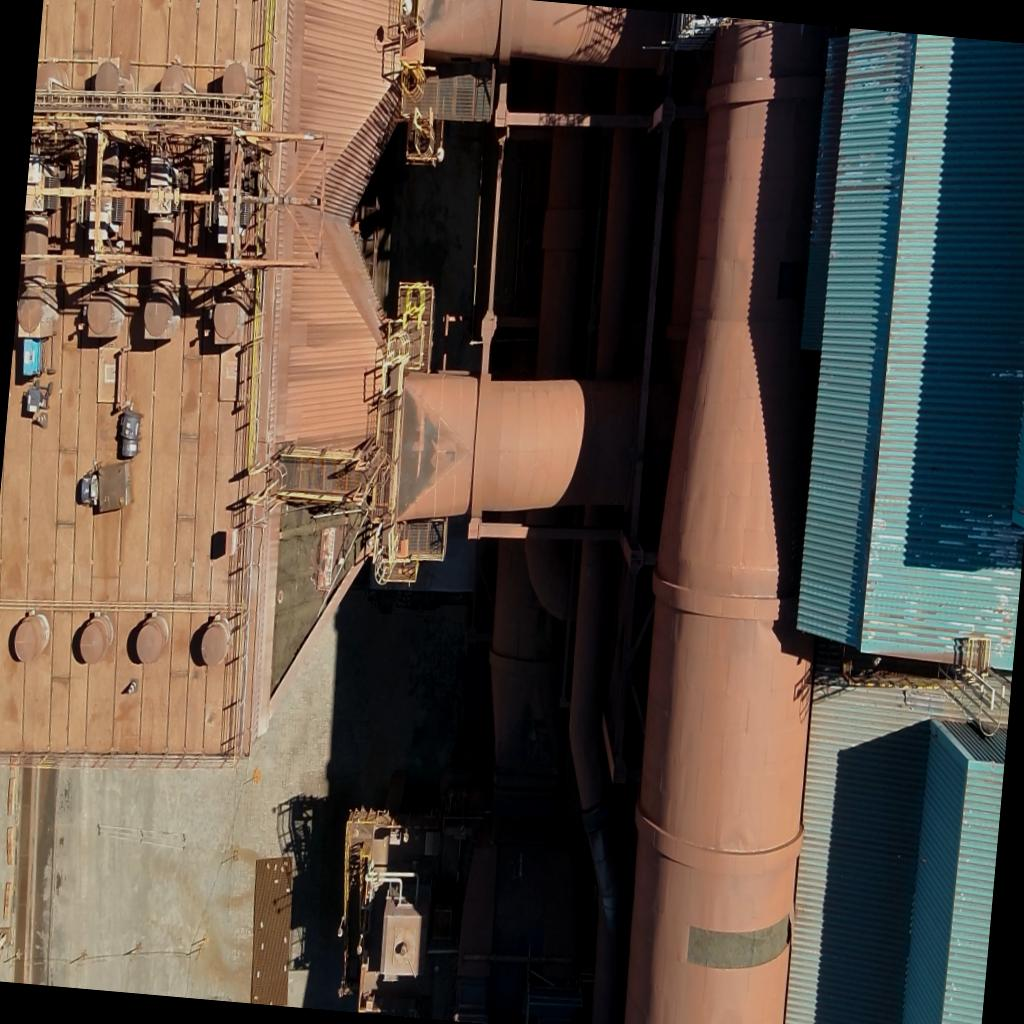Failures: (264, 465, 374, 676), (685, 908, 798, 979)
